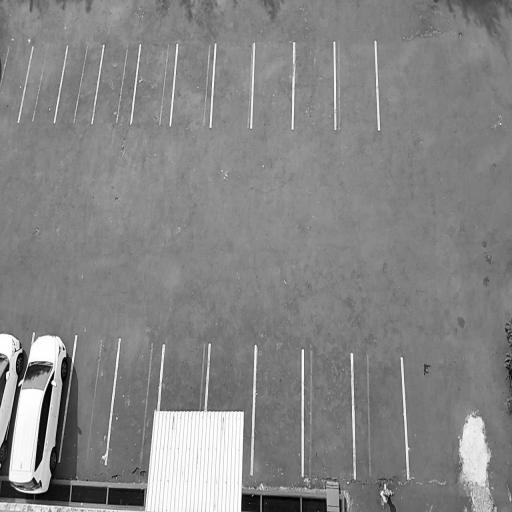Car: (4, 324, 73, 494), (0, 325, 28, 483)
Space Available: (60, 333, 120, 464), (352, 350, 409, 480), (105, 338, 159, 464), (303, 346, 354, 477), (252, 344, 303, 475), (54, 43, 104, 125), (334, 39, 379, 128), (18, 44, 68, 123), (210, 40, 254, 129), (92, 43, 140, 124), (292, 41, 336, 129), (171, 42, 215, 129), (251, 42, 294, 130), (132, 43, 177, 126), (206, 341, 255, 412), (158, 342, 211, 407)
